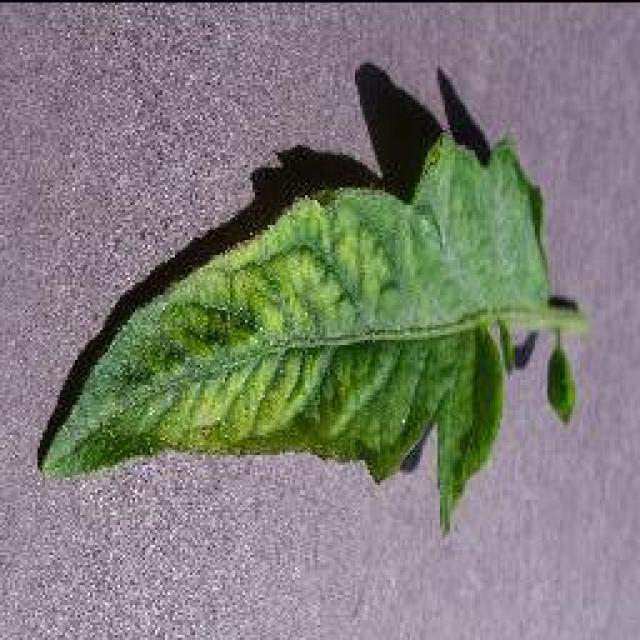Tomato___Tomato_mosaic_virus: (42, 132, 582, 528)
